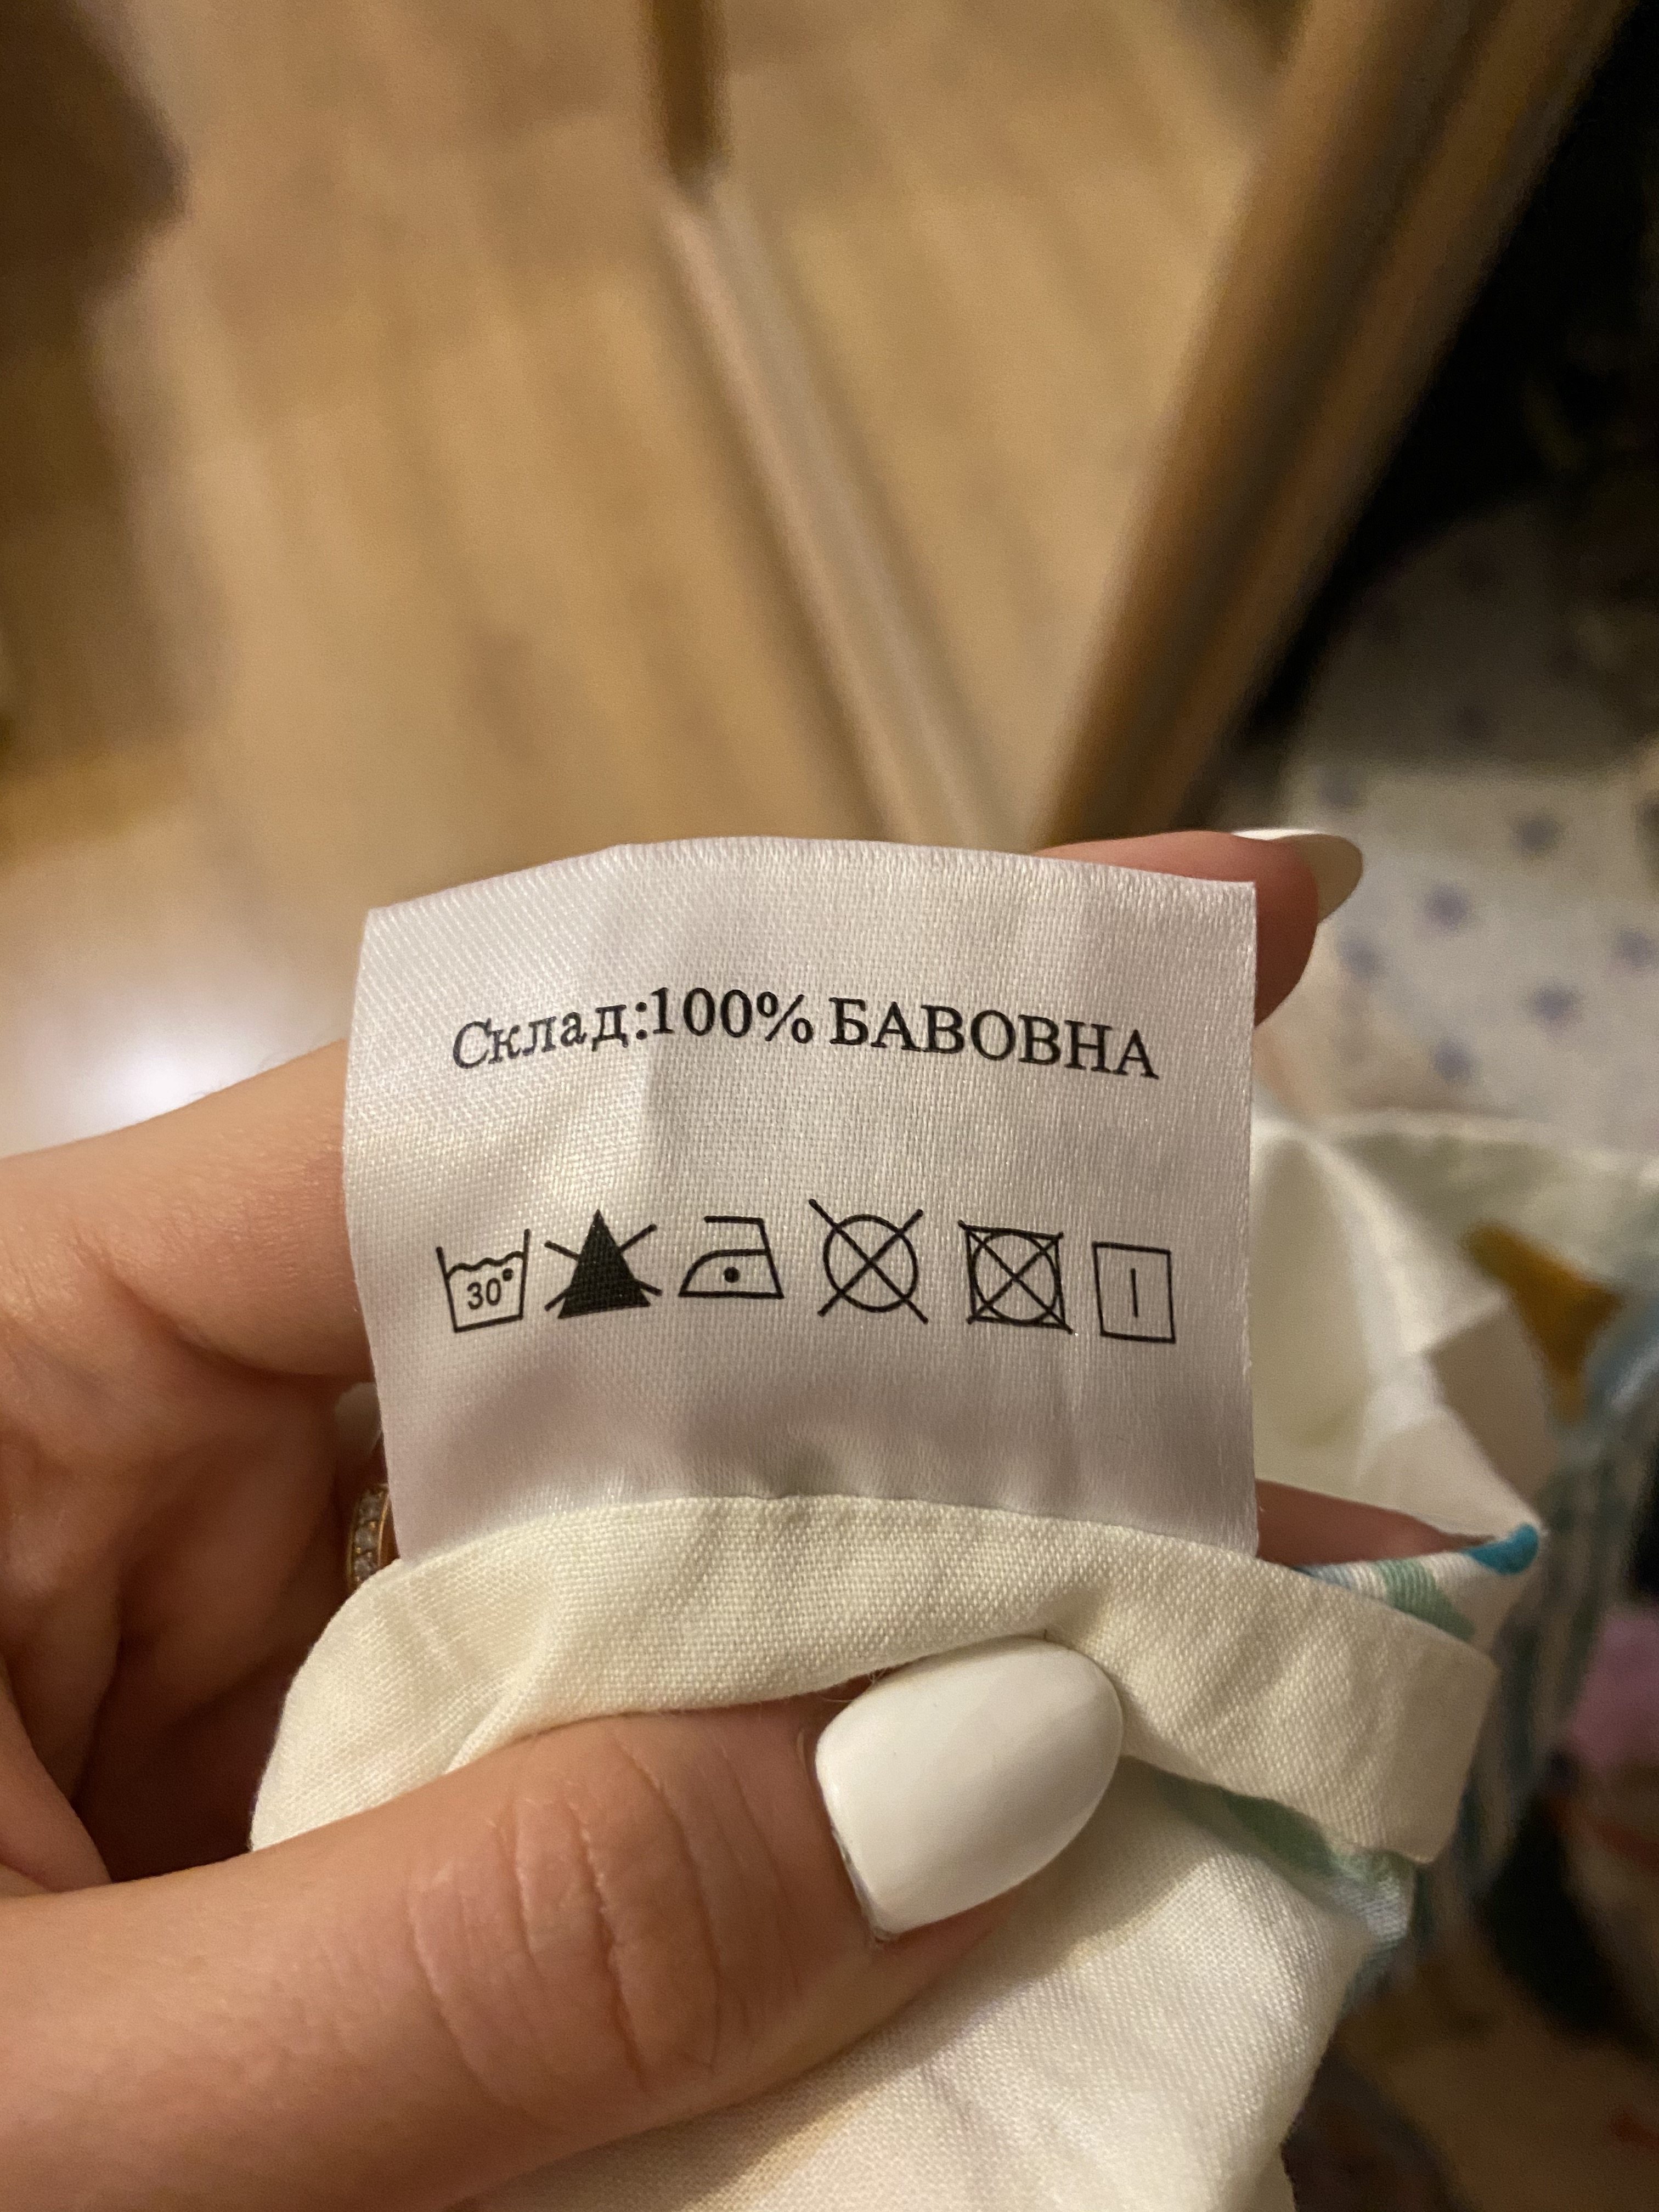do_not_bleach: (540, 1204, 666, 1327)
do_not_dry_clean: (810, 1202, 931, 1322)
do_not_tumble_drying: (960, 1223, 1079, 1332)
ironing_at_low_temp: (676, 1209, 789, 1303)
line_dry: (1093, 1237, 1180, 1345)
wash_at_or_below_30: (432, 1221, 535, 1336)
